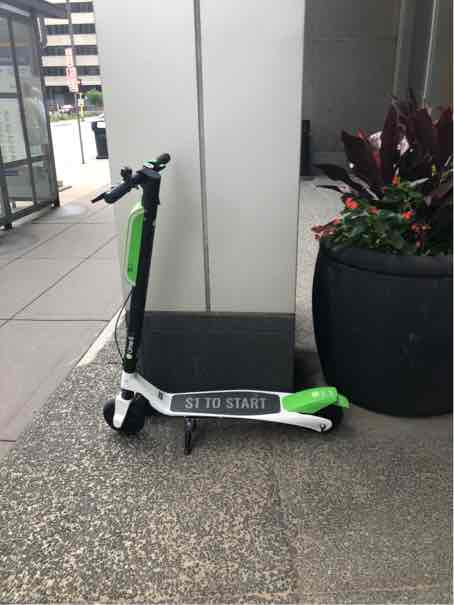scooter: (91, 138, 351, 461)
